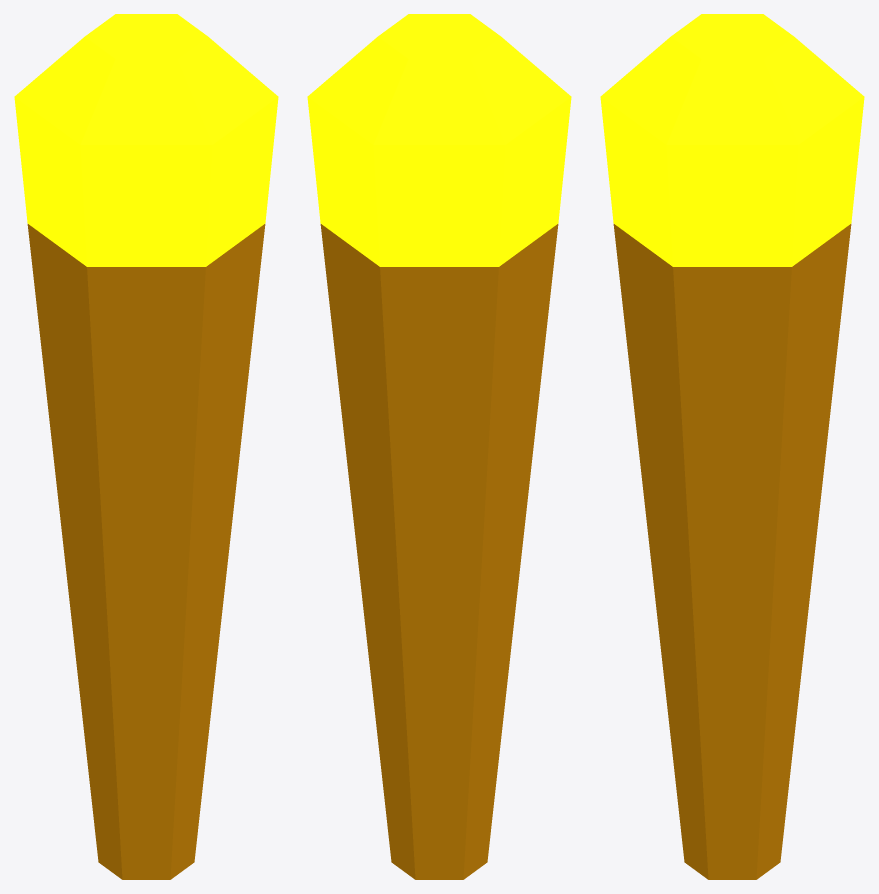
File: weapons.fbx
The picture shows the model from 3 angles, left to right: view 1: azimuth 30°, elevation 25°; view 2: azimuth 150°, elevation 25°; view 3: azimuth 270°, elevation 25°; orthographic projection.
Visible parts, largest first — view 1: torch; view 2: torch; view 3: torch.
Part boxes in pixels (x1,y1,x2,y2): torch: [14, 14, 278, 879]; torch: [307, 14, 571, 879]; torch: [600, 14, 864, 879].
Bounding box in the file's own units: 0.1791 × 0.7135 × 0.2068.
